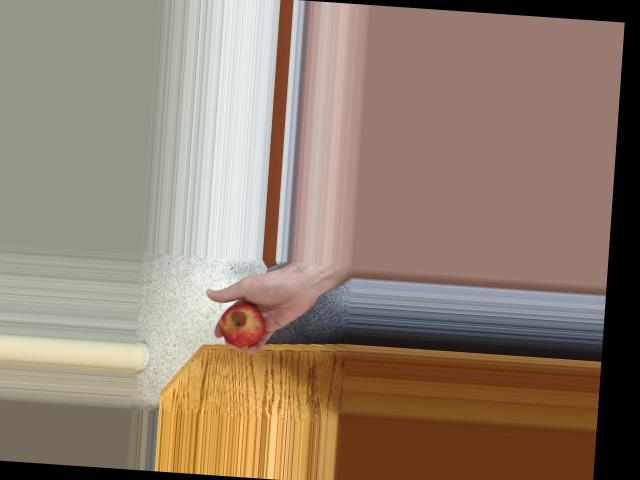apple: (212, 295, 284, 353)
